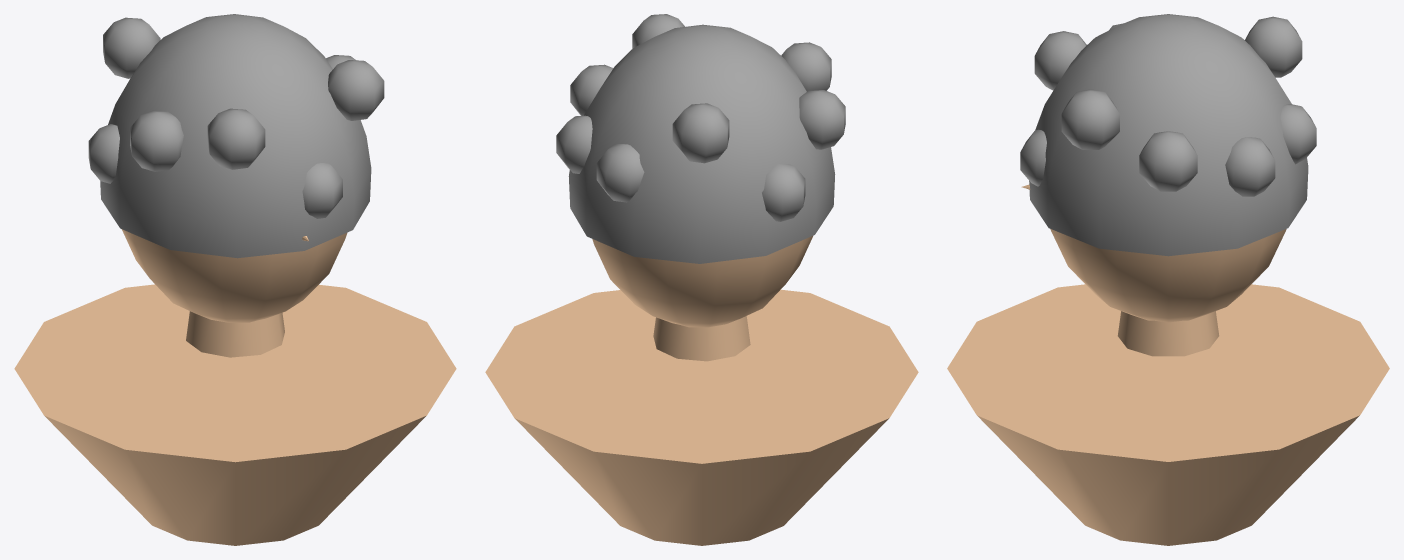
File: raw_003.glb
The picture shows the model from 3 angles, left to right: view 1: azimuth 30°, elevation 25°; view 2: azimuth 150°, elevation 25°; view 3: azimuth 270°, elevation 25°; orthographic projection. The views are drawn at different scales.
Size of the model in its own units: 1.83 by 2.2 by 1.83.
